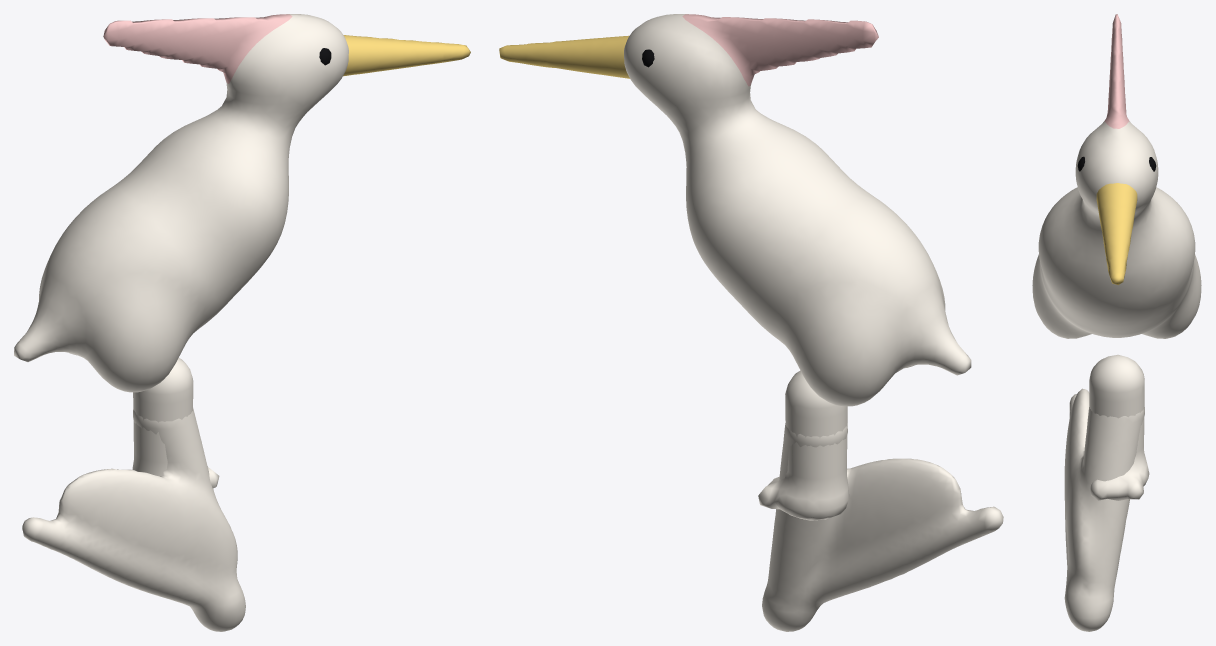
File: pteranodon_adult.glb
3 views of the same model, side by side, from view 1: azimuth 30°, elevation 25°; view 2: azimuth 150°, elevation 25°; view 3: azimuth 270°, elevation 25° (orthographic). The views are drawn at different scales.
Parts seen in each view (by area): view 1: body, wing, leg, beak; view 2: body, wing, leg, beak; view 3: body, wing, leg, beak.
Boxes of the visible parts, x1=… form: body: x1=14, y1=14, x2=348, y2=392; wing: x1=22, y1=408, x2=245, y2=631; leg: x1=132, y1=358, x2=219, y2=488; beak: x1=343, y1=35, x2=470, y2=76; body: x1=624, y1=14, x2=971, y2=406; wing: x1=762, y1=423, x2=1003, y2=631; leg: x1=758, y1=370, x2=849, y2=520; beak: x1=499, y1=35, x2=629, y2=78; body: x1=1032, y1=14, x2=1201, y2=338; wing: x1=1064, y1=388, x2=1144, y2=631; leg: x1=1089, y1=354, x2=1149, y2=500; beak: x1=1096, y1=183, x2=1137, y2=285.
Bounding box in the file's own units: 1.94 × 2.47 × 0.6599.
